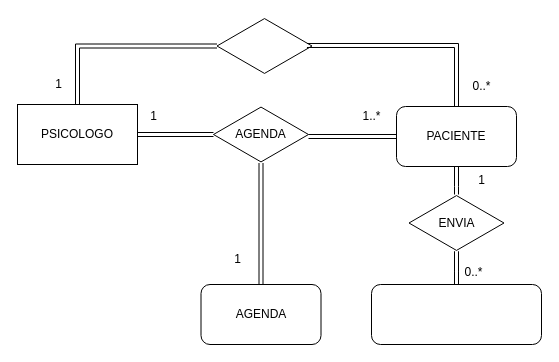
Some shapes in this 559 by 362 pixel diagram are drawn without their labels. The box of each missing label's shape, as (x1, y1, x2, y2) in pixels:
CADASTRA: (216, 16, 312, 74)
REGISTRO_SENTIMENTOS: (370, 284, 542, 344)
